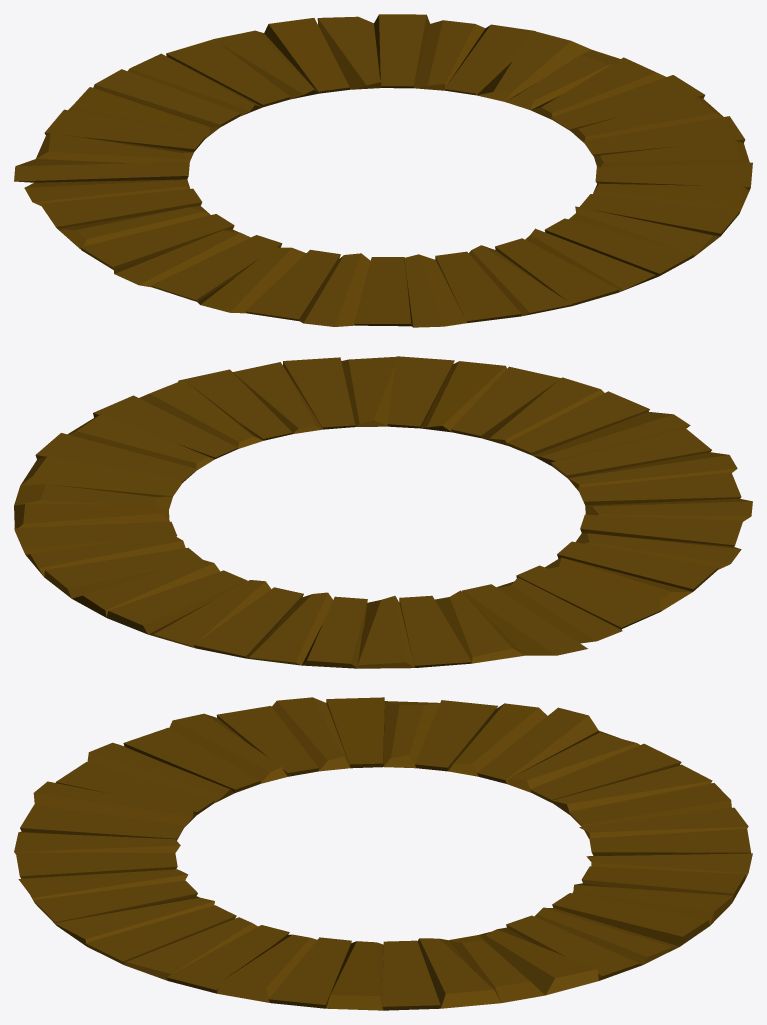
File: PlankRoundabout.fbx
3 renders of one model, top to bottom at view 1: azimuth 30°, elevation 25°; view 2: azimuth 150°, elevation 25°; view 3: azimuth 270°, elevation 25°, orthographic. The views are drawn at different scales.
Parts seen in each view (by area): view 1: WoodRoundabout; view 2: WoodRoundabout; view 3: WoodRoundabout.
Part boxes in pixels (box(x1,y1,x2,y2)): WoodRoundabout: box(14, 14, 752, 327); WoodRoundabout: box(14, 356, 752, 668); WoodRoundabout: box(14, 697, 752, 1010).
Size of the model in its own units: 19651 by 293 by 19710.
